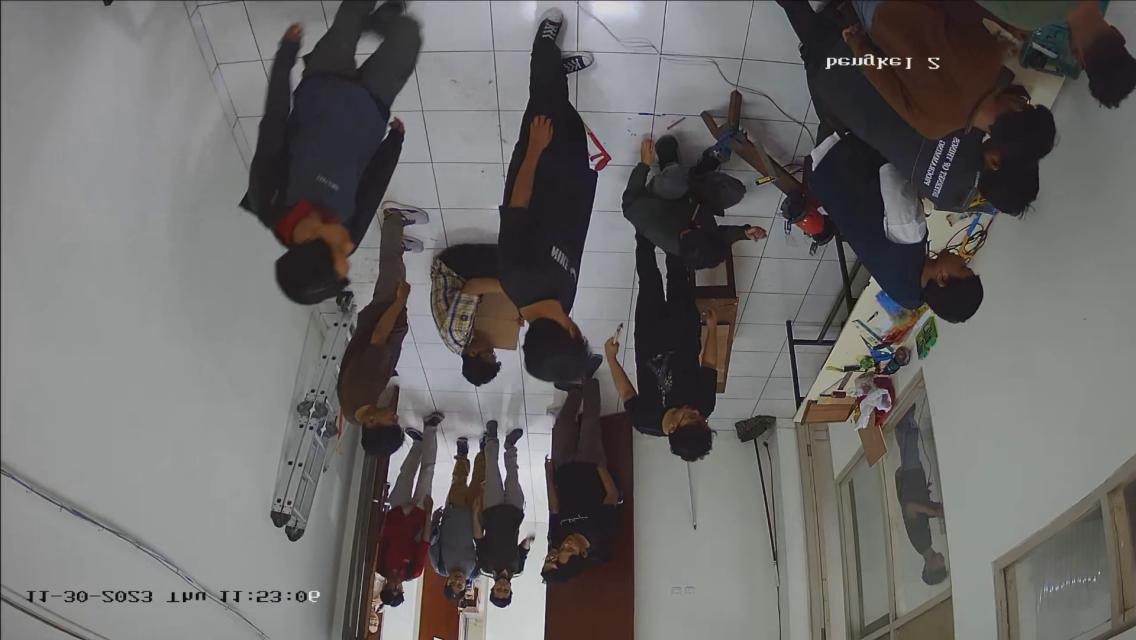Crowd: (349, 352, 638, 622)
Person-Crowd: (224, 0, 465, 326), (476, 9, 629, 399), (614, 113, 746, 494), (318, 193, 436, 475)
